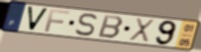9: (154, 20, 179, 47)
B: (97, 14, 126, 40)
F: (43, 9, 72, 33)
S: (73, 13, 99, 38)
V: (26, 5, 51, 32)
X: (127, 17, 157, 45)
